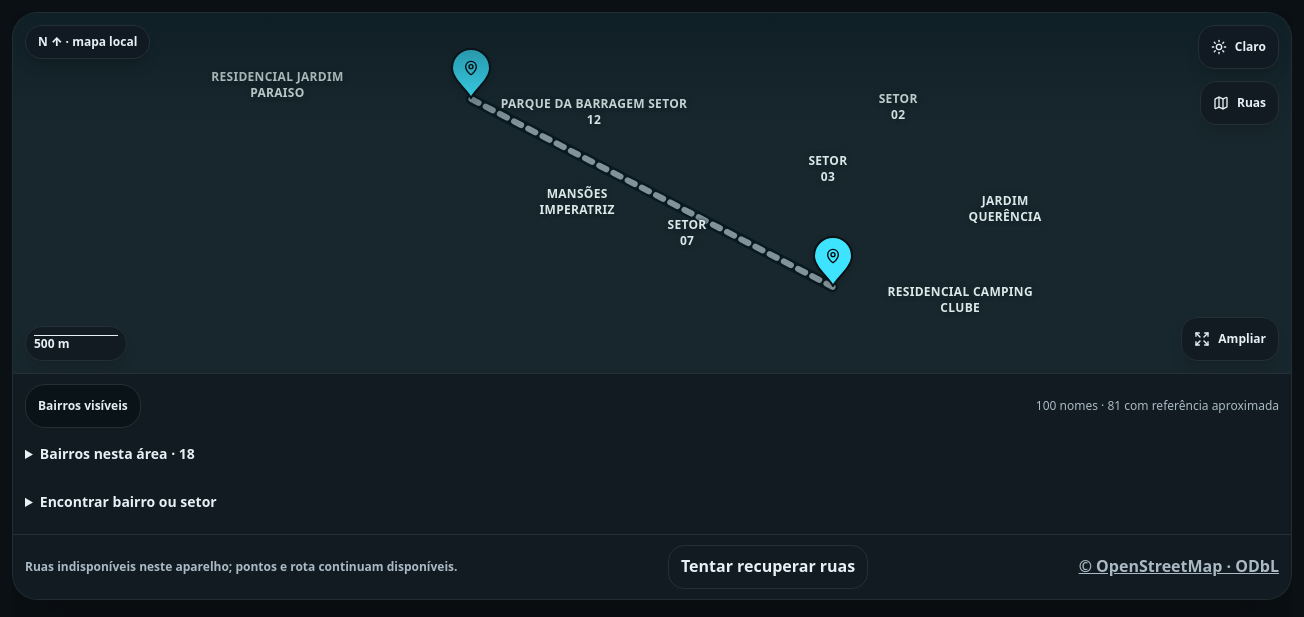
Scenario: rejects an incompatible pack and allows a manual recovery
Click the button "Tentar recuperar ruas" at point(768, 567), box top-left (668, 545), bottom-right (868, 589)
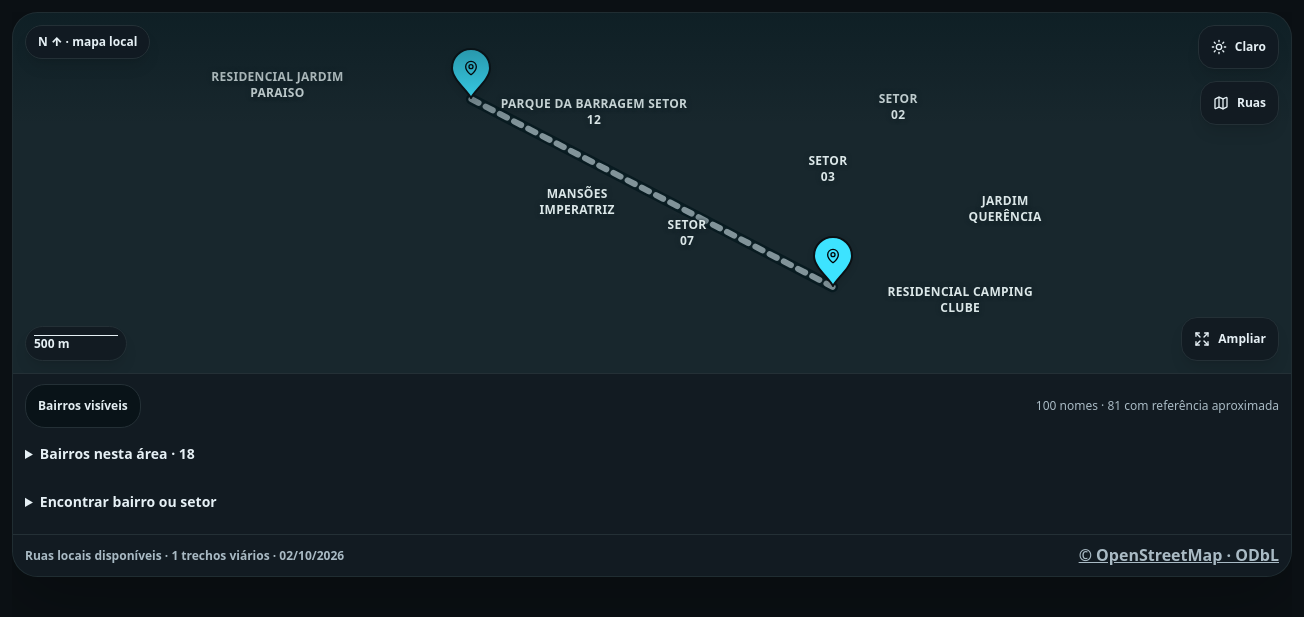
Result: the text "Ruas locais disponíveis · 1 trechos viários · 02/10/2026" is shown at top-left (25, 548), bottom-right (344, 564)
